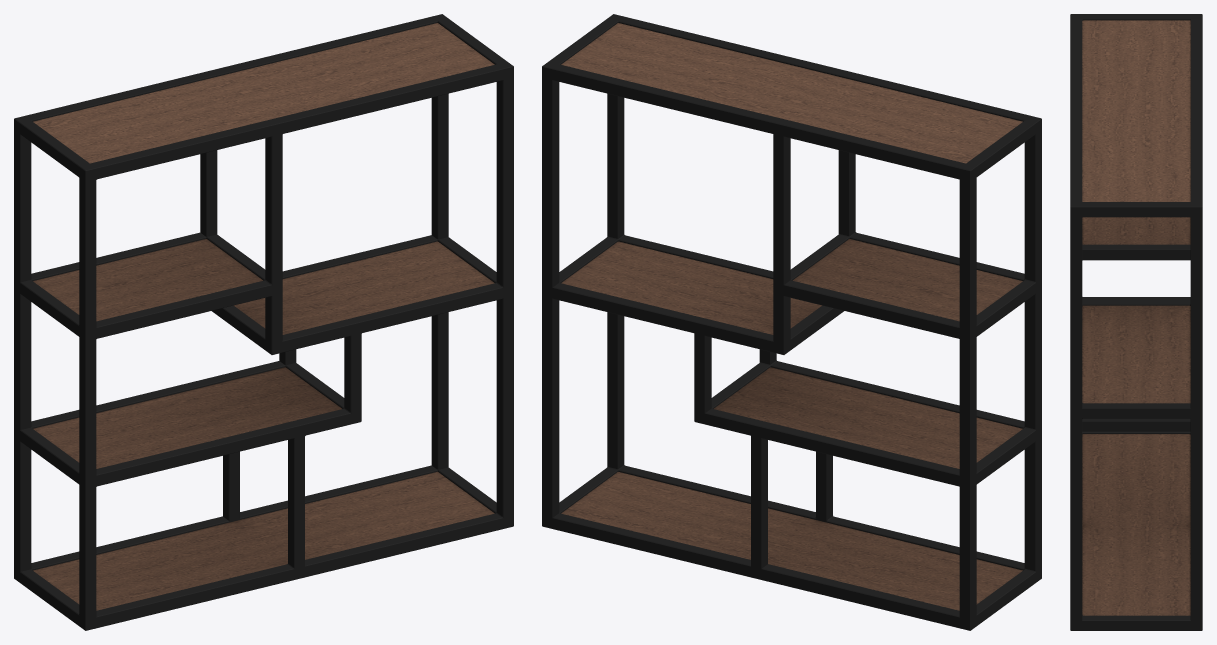
File: dlX-BookShelf(Manhattan Beach).fbx
3 views of the same model, side by side, from view 1: azimuth 30°, elevation 25°; view 2: azimuth 150°, elevation 25°; view 3: azimuth 270°, elevation 25° (orthographic). The views are drawn at different scales.
Parts seen in each view (by area): view 1: Frame, Plane1, Plane5, Plane4, Plane3, Plane2; view 2: Frame, Plane1, Plane5, Plane4, Plane3, Plane2; view 3: Frame, Plane1, Plane5, Plane3, Plane2.
Part boxes in pixels (left/top/right/bottom): Frame: left=14, top=14, right=513, bottom=630; Plane1: left=33, top=23, right=494, bottom=163; Plane5: left=33, top=471, right=494, bottom=610; Plane4: left=33, top=367, right=341, bottom=468; Plane3: left=234, top=241, right=494, bottom=334; Plane2: left=33, top=239, right=262, bottom=321; Frame: left=542, top=14, right=1041, bottom=630; Plane1: left=561, top=23, right=1022, bottom=163; Plane5: left=561, top=472, right=1022, bottom=610; Plane4: left=714, top=367, right=1022, bottom=468; Plane3: left=561, top=241, right=821, bottom=334; Plane2: left=793, top=239, right=1022, bottom=321; Frame: left=1070, top=14, right=1202, bottom=630; Plane1: left=1082, top=20, right=1190, bottom=201; Plane5: left=1082, top=434, right=1190, bottom=615; Plane3: left=1082, top=305, right=1190, bottom=403; Plane2: left=1082, top=217, right=1190, bottom=244.
Size of the model in its own units: 76 by 78 by 22.
